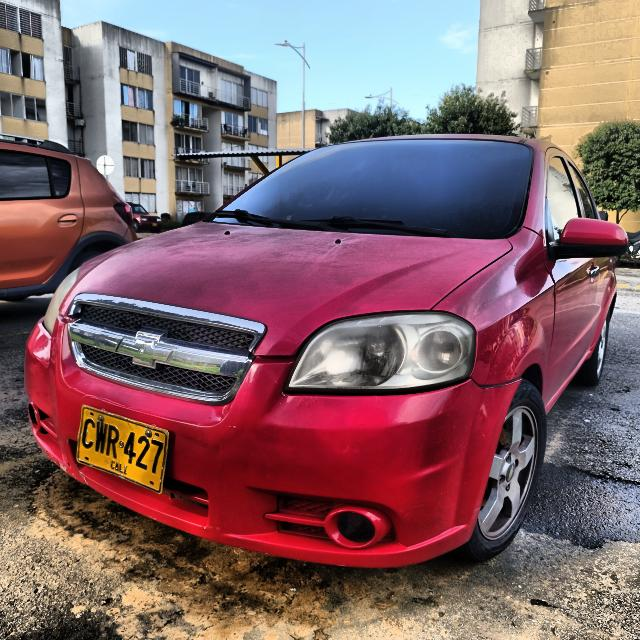plate: (77, 405, 168, 493)
